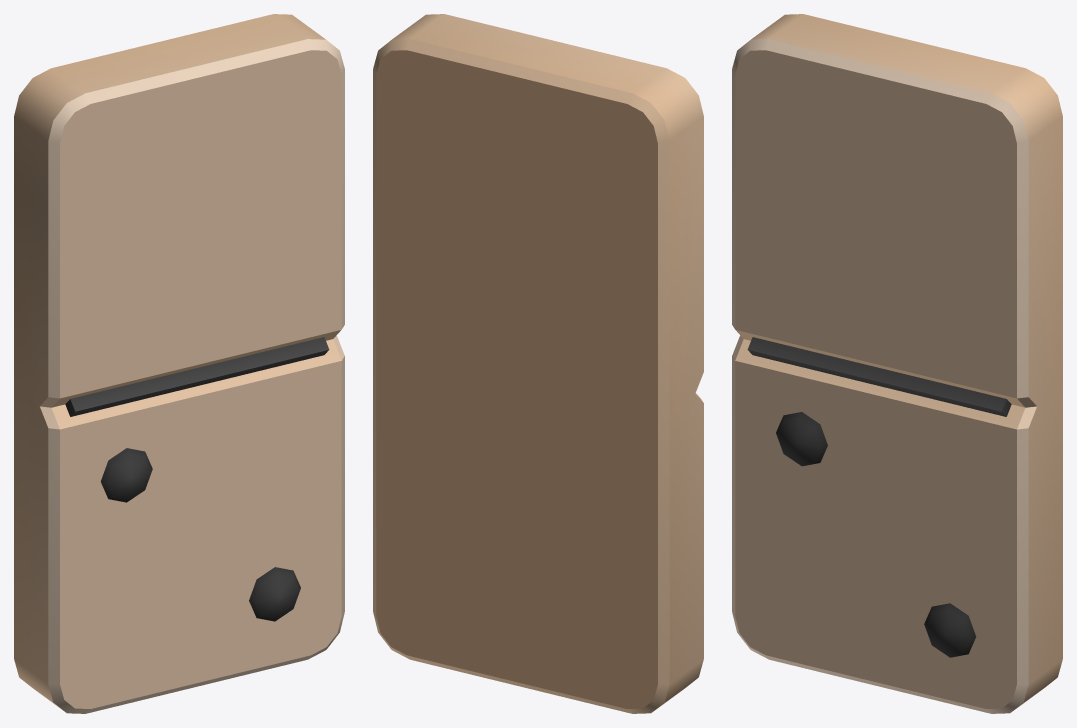
File: KFB_Domino_0-2.r1.glb
The picture shows the model from 3 angles, left to right: view 1: azimuth 30°, elevation 25°; view 2: azimuth 150°, elevation 25°; view 3: azimuth 330°, elevation 25°; orthographic projection.
Parts seen in each view (by area): view 1: KFB_Domino_0-2; view 2: KFB_Domino_0-2; view 3: KFB_Domino_0-2.
Part boxes in pixels (bbox=[...]): KFB_Domino_0-2: bbox=[14, 14, 344, 713]; KFB_Domino_0-2: bbox=[373, 14, 703, 713]; KFB_Domino_0-2: bbox=[732, 14, 1062, 713].
Bounding box in the file's own units: 2.44 × 4.87 × 0.6739.
Materials: 1 (1 with a texture image).
